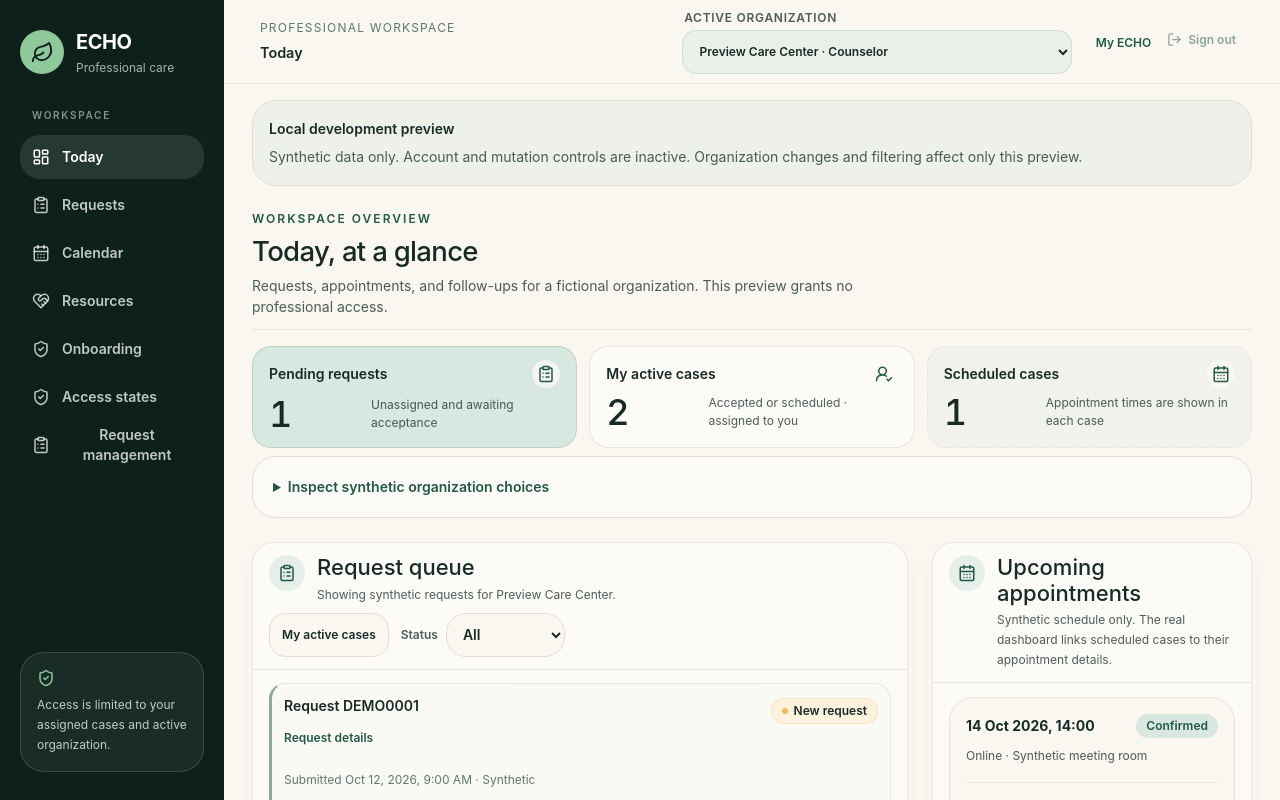
Test: synthetic professional workspace › scopes synthetic appointments and follow-ups to the chosen organization and resets the active-case filter
The image size is (1280, 800).
Click the button "My active cases".
click(329, 635)  # box [269,613,389,657]
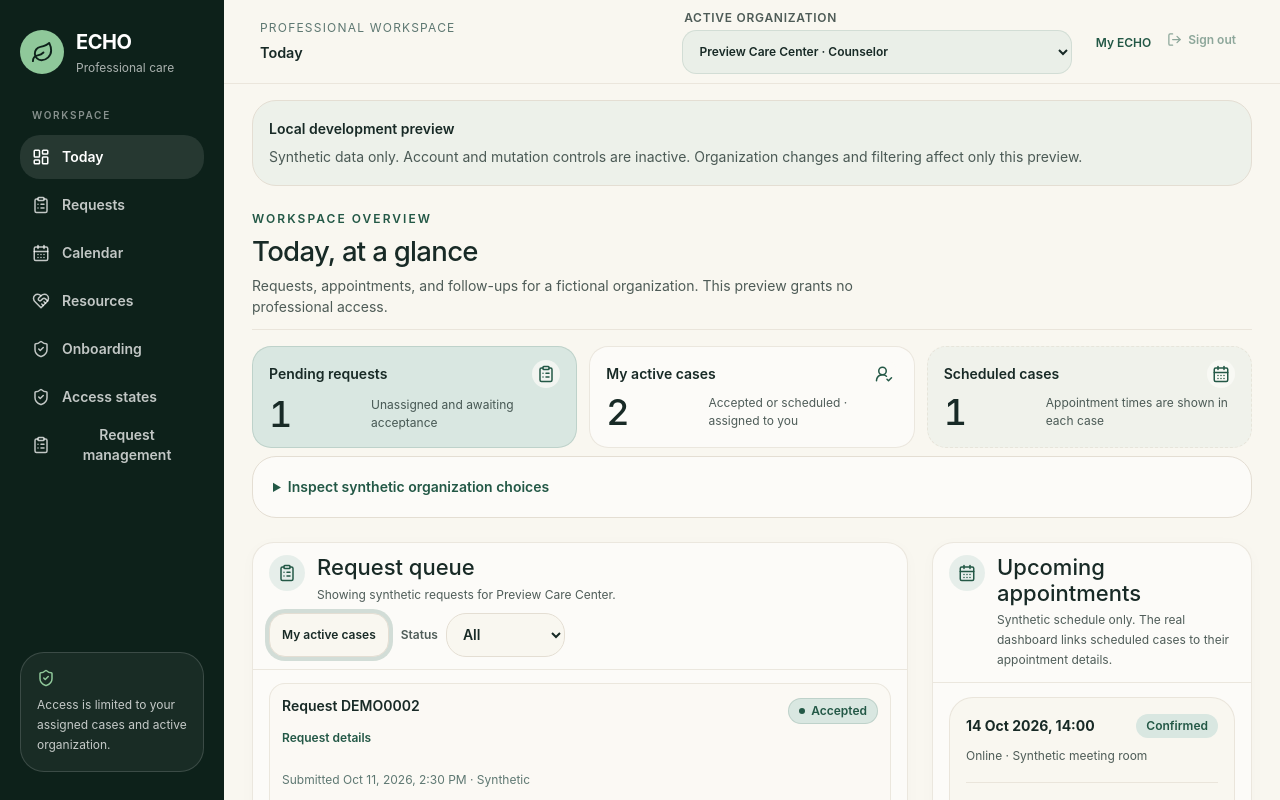
Check: the heading "Request DEMO0001" is gone
Select "Preview Community Organization With a Long Name for Layout QA · Counselor" in the dropdown labelled "Active organization" at (877, 52), box [682,30,1072,74]
(page scrolled)
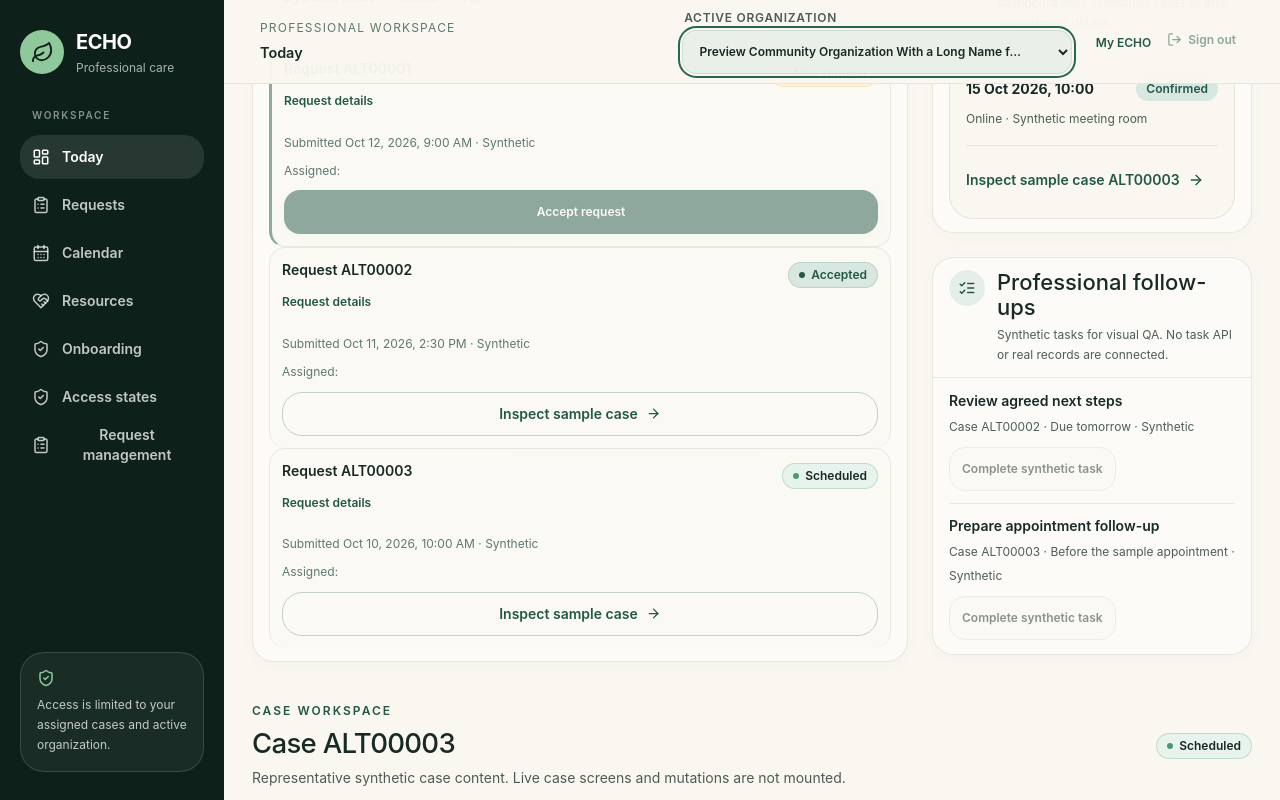
Check: the element "Upcoming appointments" shows "15 Oct 2026, 10:00", box [966,80,1094,97]
Check: the element "Professional follow-ups" shows "Case ALT00002", box [932,257,1252,655]
Check: the element "Professional follow-ups" shows "Case ALT00003", box [932,257,1252,655]
